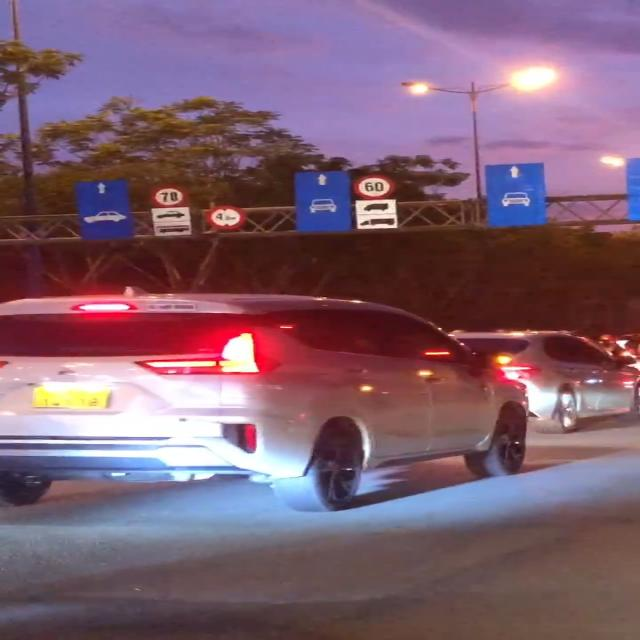Bien bao han che chieu cao: (208, 204, 244, 232)
Bien bao toc do toi da cho phep: (350, 175, 396, 199), (146, 186, 186, 210)
